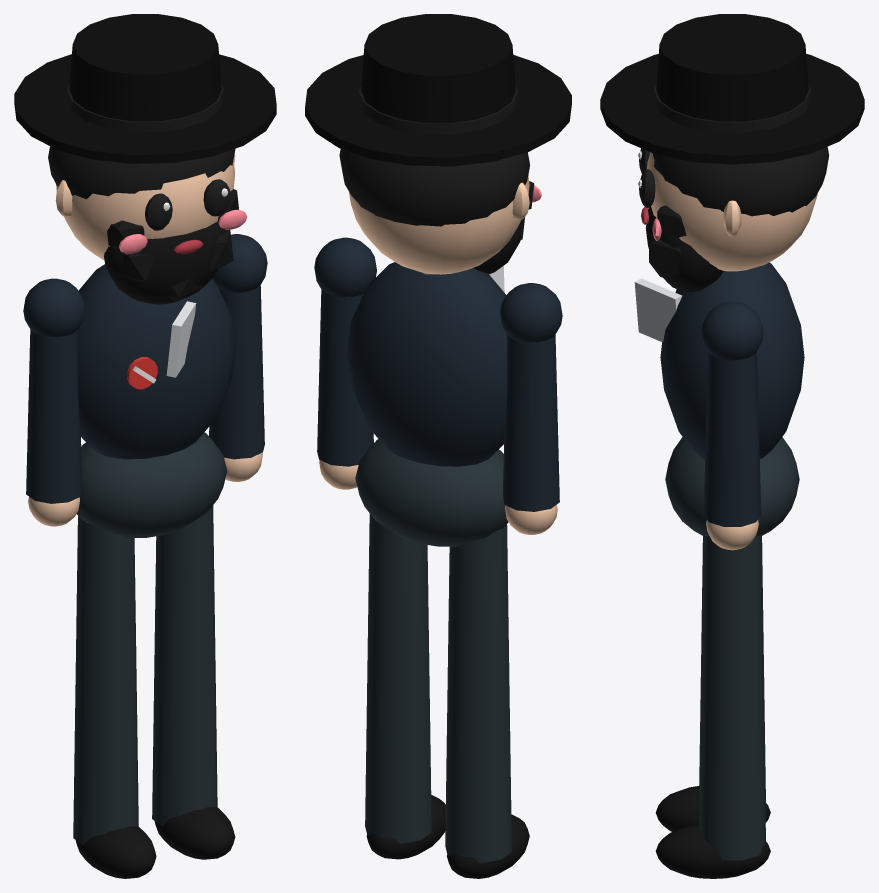
Rendered from cameos_yedidya.glb.
The picture shows the model from 3 angles, left to right: view 1: azimuth 30°, elevation 25°; view 2: azimuth 150°, elevation 25°; view 3: azimuth 270°, elevation 25°; orthographic projection.
Visible parts, largest first — view 1: Body.006, Leg_R.005, Leg_L.005, Arm_R.004, Arm_L.004, CameosYedidyaExtra; view 2: Body.006, Leg_R.005, Leg_L.005, Arm_R.004, Arm_L.004; view 3: Body.006, Leg_L.005, Arm_L.004, CameosYedidyaExtra, Leg_R.005.
Boxes of the visible parts, left/top/right/bottom form: Body.006: left=14, top=14, right=276, bottom=538; Leg_R.005: left=73, top=516, right=156, bottom=878; Leg_L.005: left=152, top=505, right=235, bottom=859; Arm_R.004: left=23, top=278, right=84, bottom=526; Arm_L.004: left=209, top=234, right=267, bottom=481; CameosYedidyaExtra: left=107, top=189, right=238, bottom=389; Body.006: left=305, top=14, right=571, bottom=546; Leg_R.005: left=445, top=524, right=529, bottom=878; Leg_L.005: left=365, top=513, right=445, bottom=859; Arm_R.004: left=500, top=283, right=562, bottom=534; Arm_L.004: left=314, top=237, right=376, bottom=489; Body.006: left=600, top=14, right=864, bottom=536; Leg_L.005: left=655, top=535, right=770, bottom=878; Arm_L.004: left=701, top=301, right=763, bottom=550; CameosYedidyaExtra: left=634, top=205, right=686, bottom=342; Leg_R.005: left=655, top=536, right=770, bottom=831.
Bounding box in the file's own units: 0.57 × 1.86 × 0.551.
